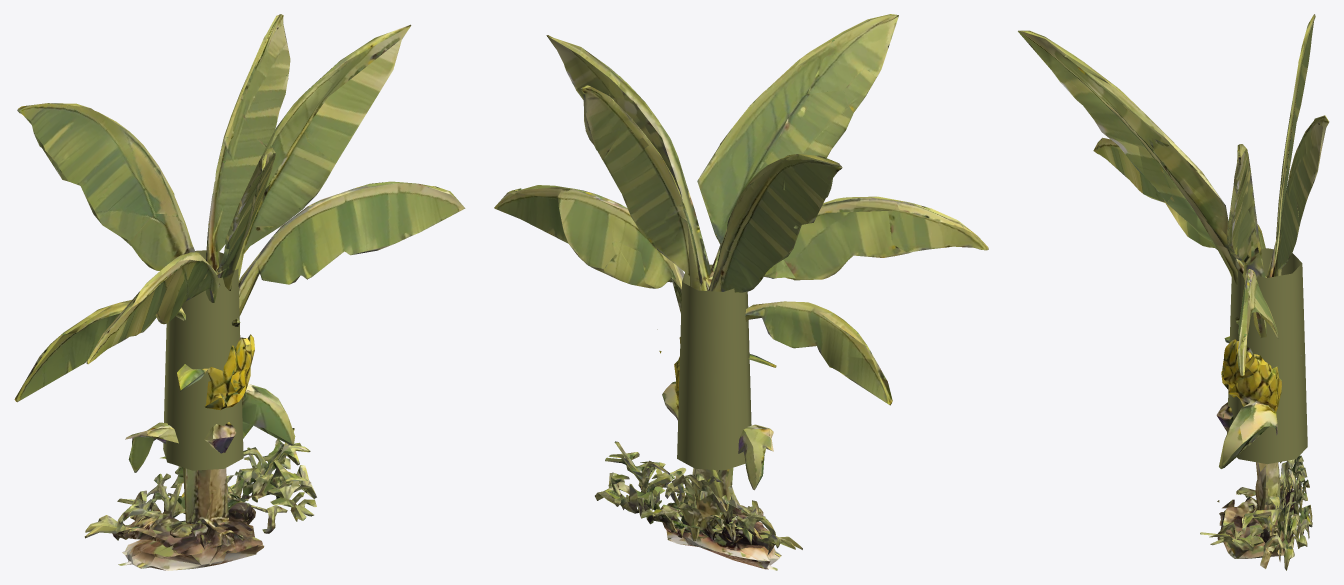
File: turtle-prop-banana-plant-grow.glb
3 renders of one model, left to right at view 1: azimuth 30°, elevation 25°; view 2: azimuth 150°, elevation 25°; view 3: azimuth 270°, elevation 25°, orthographic. The views are drawn at different scales.
Parts seen in each view (by area): view 1: Mesh_0; view 2: Mesh_0; view 3: Mesh_0.
Boxes of the visible parts, x1=… form: Mesh_0: x1=14, y1=14, x2=465, y2=570; Mesh_0: x1=494, y1=14, x2=988, y2=570; Mesh_0: x1=1018, y1=14, x2=1329, y2=570.
Bounding box in the file's own units: 0.3767 × 0.3949 × 0.2307.
1 material, 1 textured.
